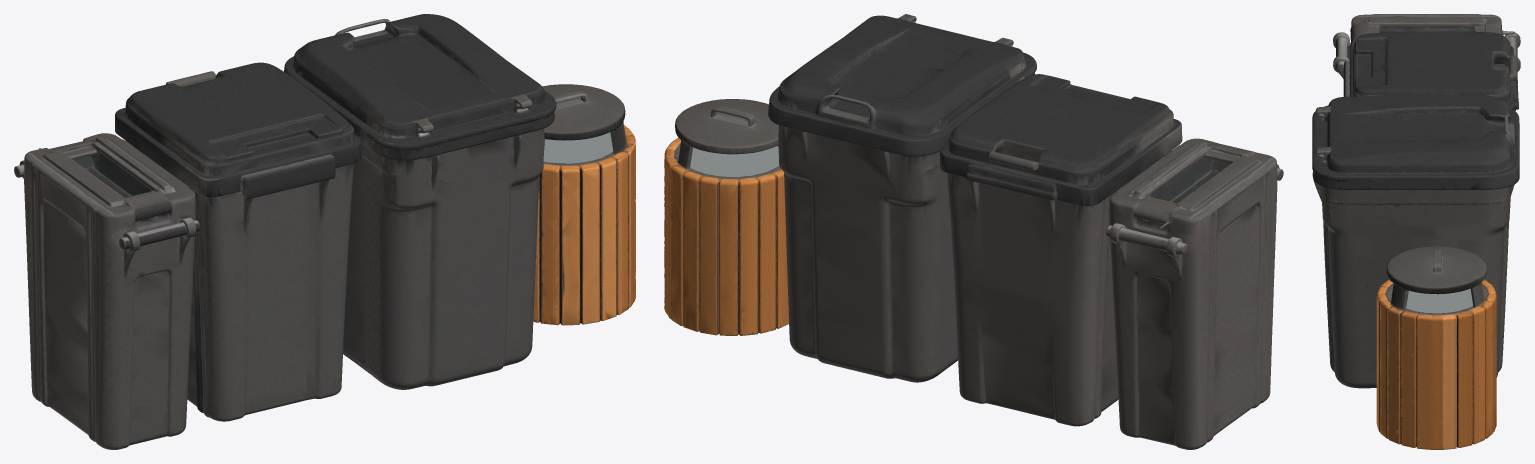
Rendered from bins.glb.
3 views of the same model, side by side, from view 1: azimuth 30°, elevation 25°; view 2: azimuth 150°, elevation 25°; view 3: azimuth 270°, elevation 25° (orthographic). The views are drawn at different scales.
Parts seen in each view (by area): view 1: mesh_node; view 2: mesh_node; view 3: mesh_node.
Part boxes in pixels (x1=…): mesh_node: x1=14, y1=14, x2=635, y2=449; mesh_node: x1=664, y1=14, x2=1283, y2=449; mesh_node: x1=1312, y1=14, x2=1520, y2=449.
Bounding box in the file's own units: 1.9 × 0.9019 × 0.7137.
Materials: 1 (1 with a texture image).
